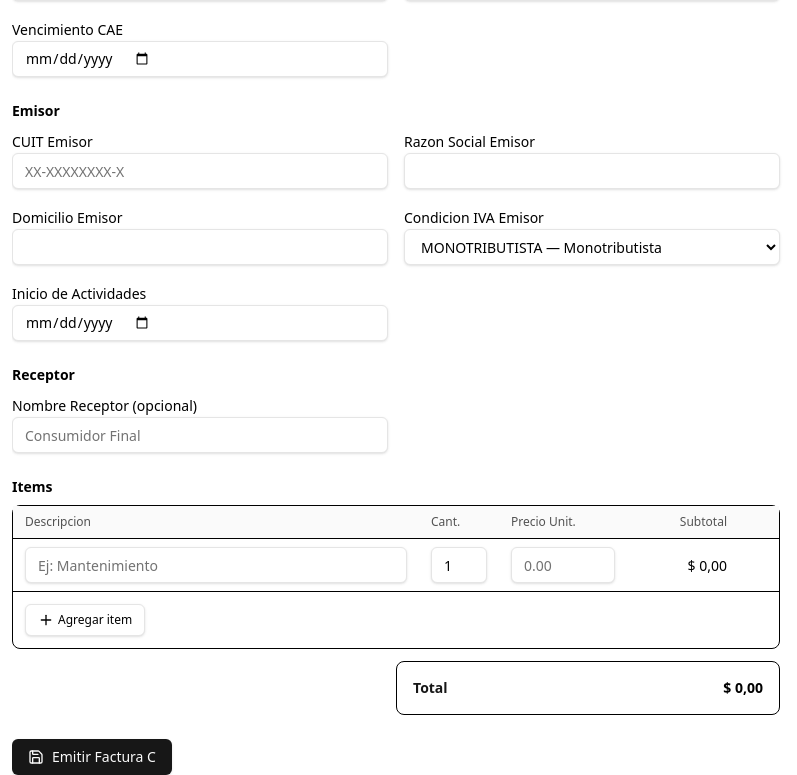
Scenario: FacturaCForm › [@display] computes total from items
The width and height of the screenshot is (797, 775).
(page scrolled)
Type "Servicio mensual" into the field named "Descripcion item 1" at point(216, 565), box [25, 547, 407, 583]
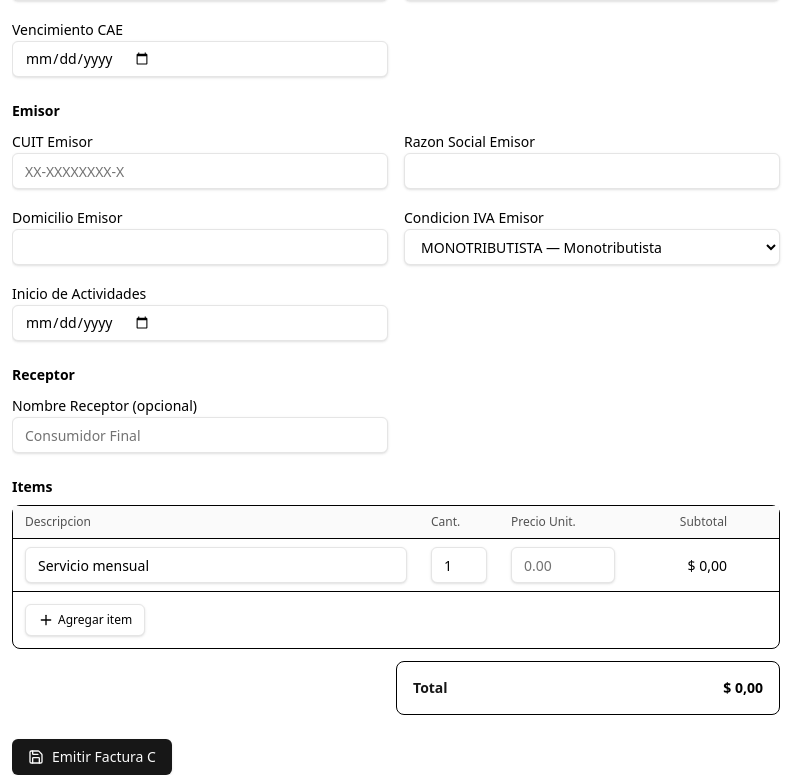
Type "10000" into the number field named "Precio unitario item 1" at point(563, 565), box [511, 547, 615, 583]
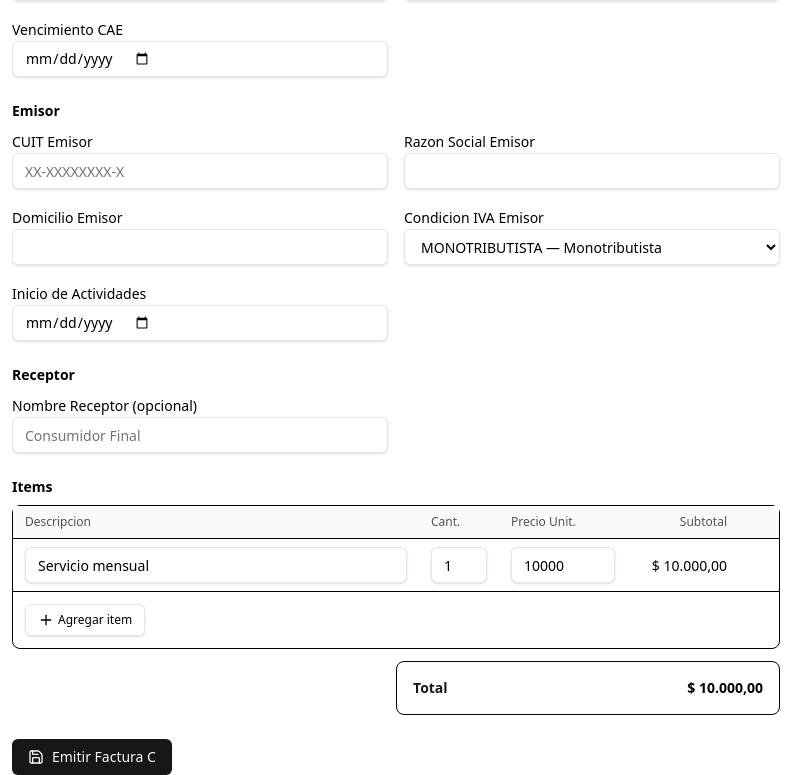
Click the button "Agregar item" at point(85, 620), box [25, 604, 145, 636]
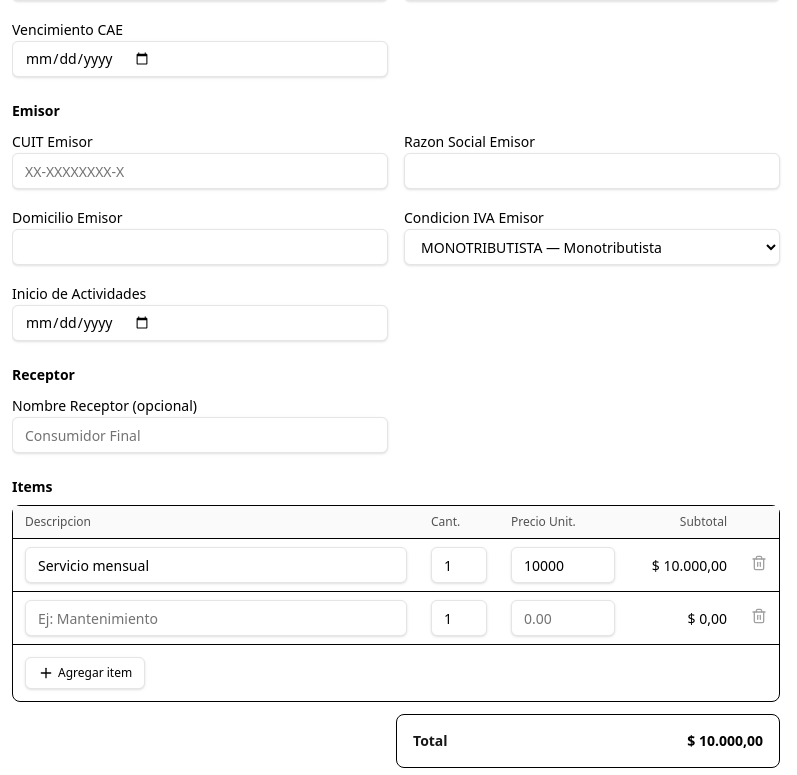
Type "Servicio adicional" into the field named "Descripcion item 2" at point(216, 618), box [25, 600, 407, 636]
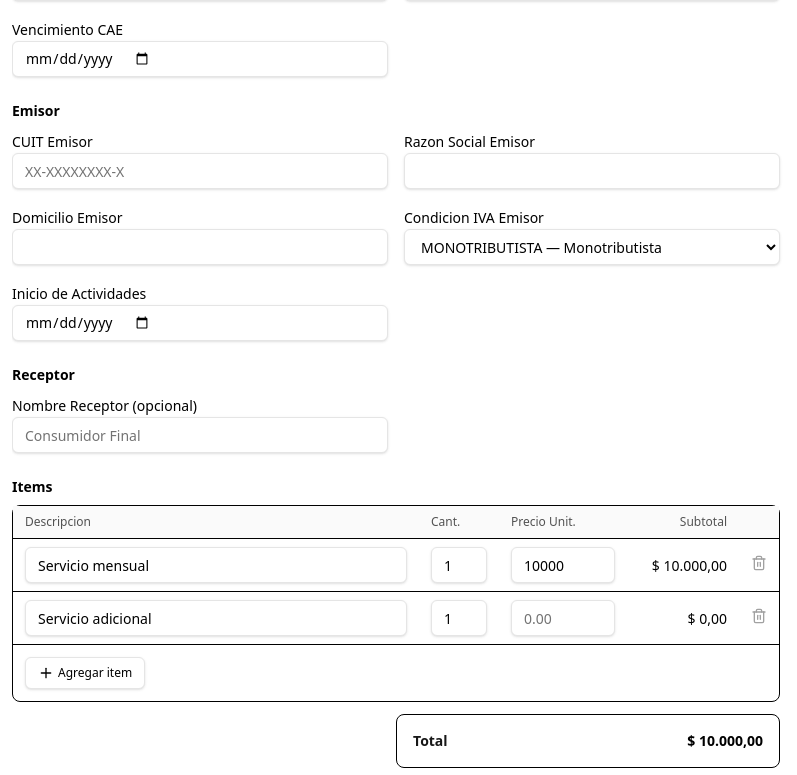
Type "5000" into the number field named "Precio unitario item 2" at point(563, 618), box [511, 600, 615, 636]
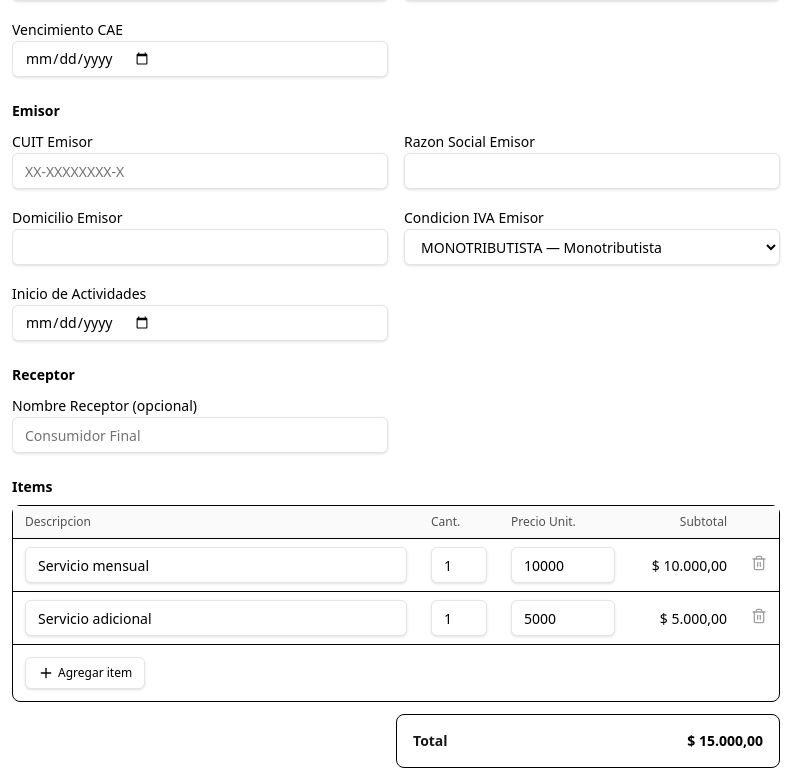
Check: the text "$ 15.000,00" is shown, box [687, 731, 763, 751]
